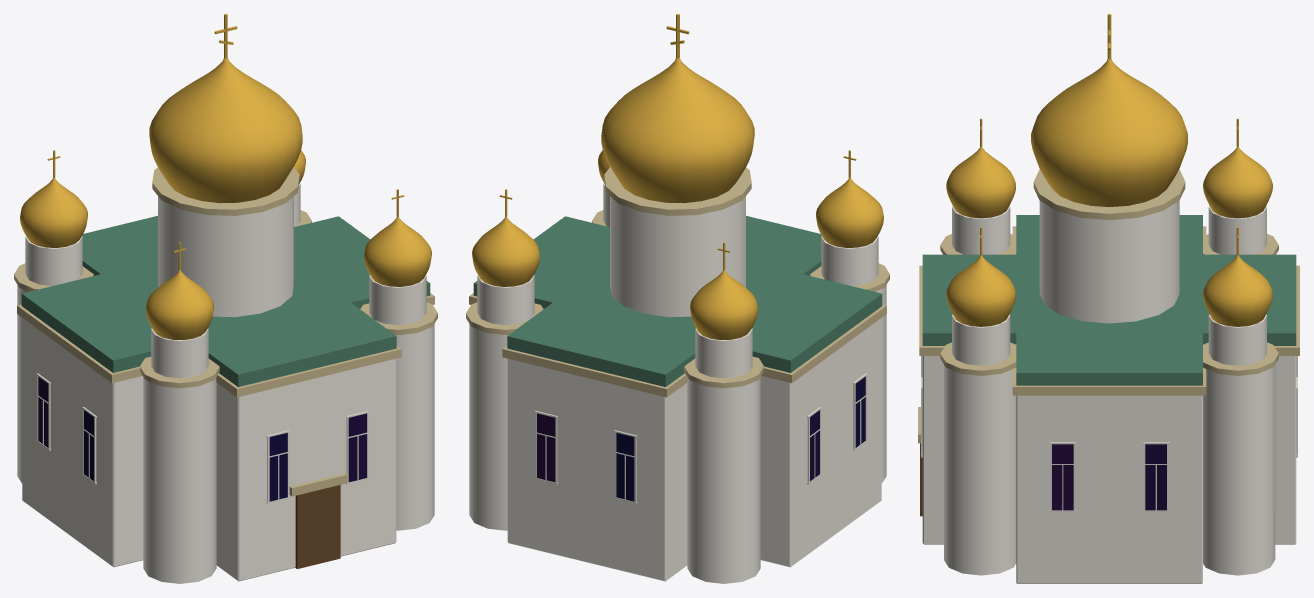
Rendered from church.glb.
3 renders of one model, left to right at view 1: azimuth 30°, elevation 25°; view 2: azimuth 150°, elevation 25°; view 3: azimuth 270°, elevation 25°, orthographic. The views are drawn at different scales.
Visible parts, largest first — view 1: church; view 2: church; view 3: church.
Boxes of the visible parts, bbox=[...] form: church: bbox=[14, 14, 437, 583]; church: bbox=[466, 14, 889, 583]; church: bbox=[918, 14, 1299, 583].
Bounding box in the file's own units: 16.3 × 23.2 × 16.35.
